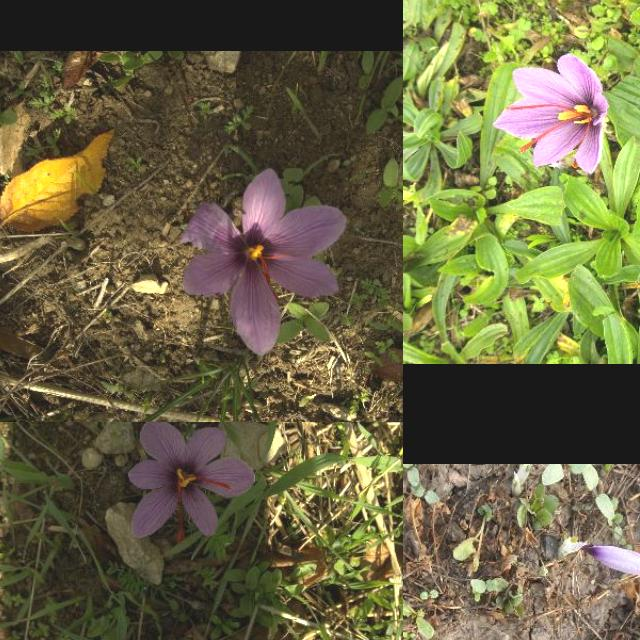flower: (182, 169, 348, 357), (128, 422, 257, 539), (492, 52, 610, 176), (586, 546, 640, 578)
